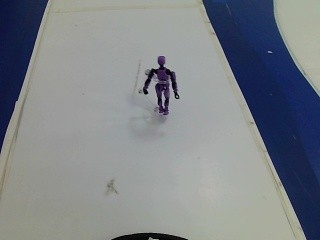pedestrian: (141, 51, 180, 117)
